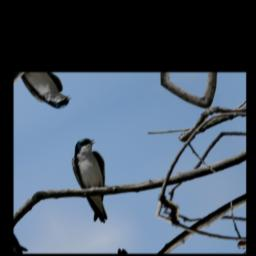Swallow: (56, 135, 134, 226)
